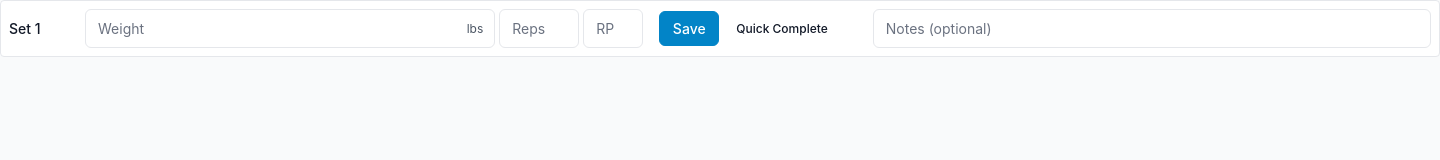
Test: SetInput › validates weight input
Type "-10" into the number field with placeholder "Weight".
click(290, 28); type("-10")  # box [85,9,495,48]
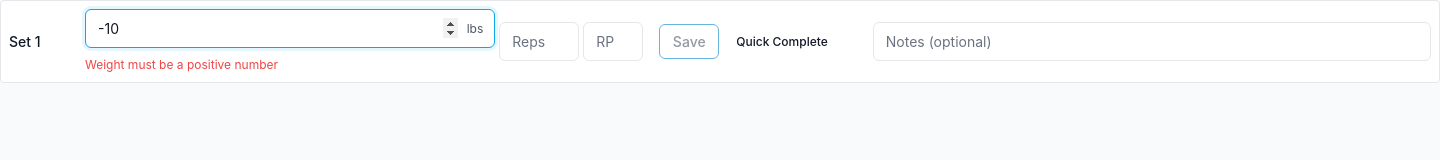
Result: the text "Weight must be a positive number" is shown at [85,57,278,72]
